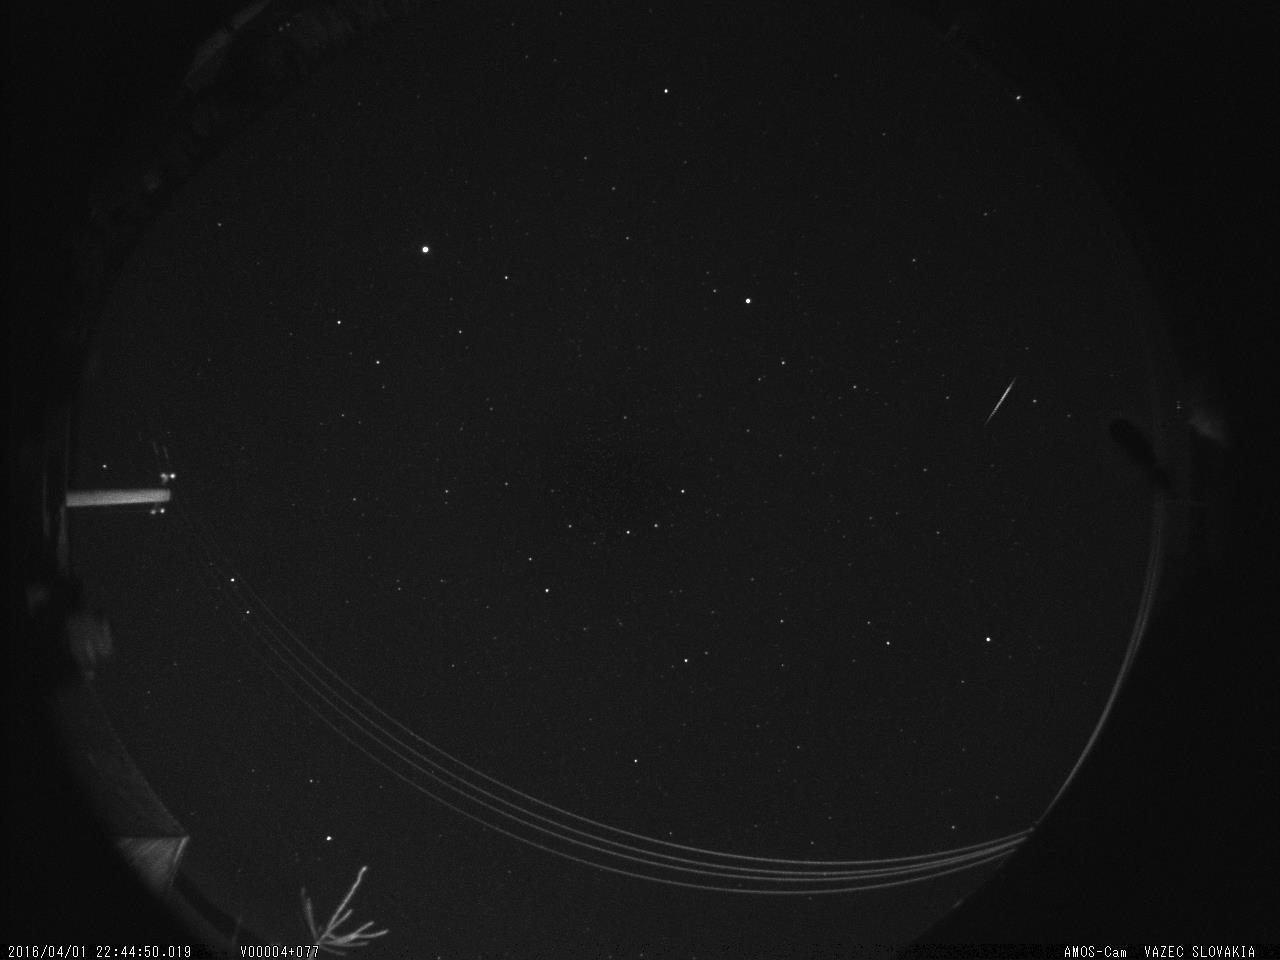Meteor: (982, 372, 1022, 434)
